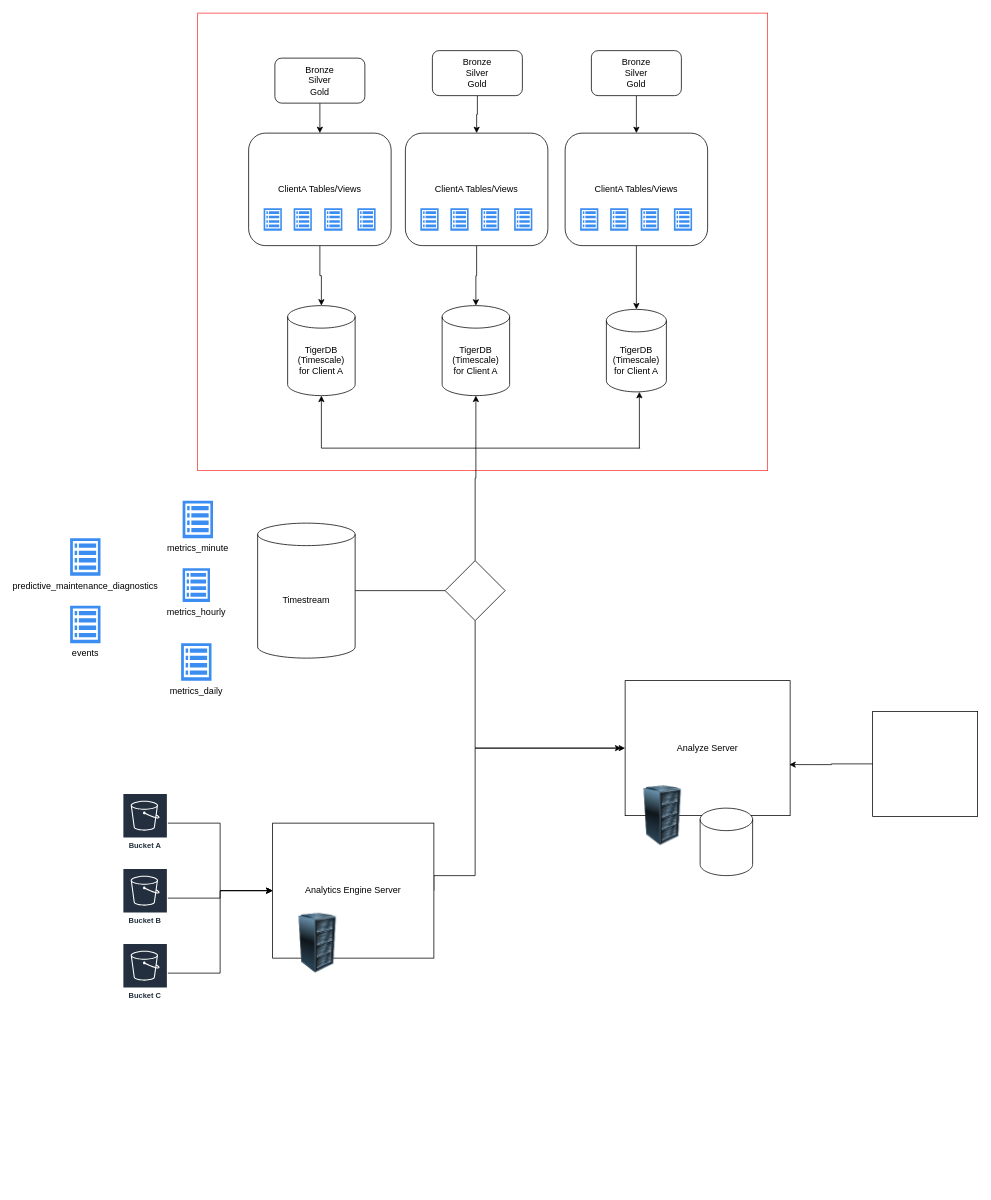
This 991x1200 diagram has some shape labels left out. The shapes that lost their labels are listed below. From the top down, each one's centre as x and y in pixels, then its label:
pixel 474 590: Query Builder
pixel 925 763: Analyze UI
pixel 726 841: AnalyzeDB
